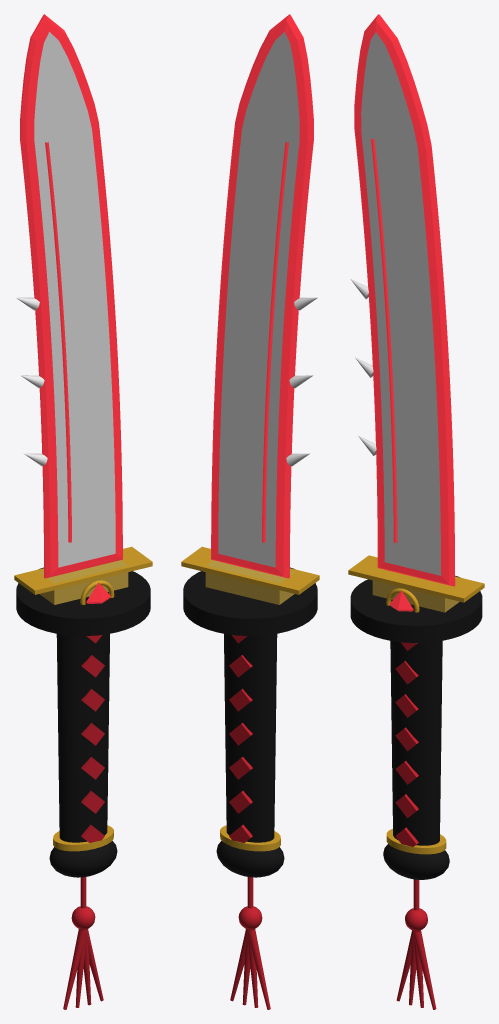
The model's file is 25_Epic_Blood_Moon_Tanto.glb.
The picture shows the model from 3 angles, left to right: view 1: azimuth 30°, elevation 25°; view 2: azimuth 150°, elevation 25°; view 3: azimuth 330°, elevation 25°; orthographic projection.
Visible parts, largest first — view 1: blade_3, handle_14, tsuba_0, blade_inlay_38, guard_trim_39, pommel_30, habaki_1, grip_ring_45, tassel_strand_33, tassel_knot_32, tassel_strand_36, tassel_strand_34 (+1 smaller); view 2: blade_3, handle_14, tsuba_0, habaki_1, blade_inlay_37, guard_trim_39, pommel_30, grip_ring_45, tassel_strand_33, tassel_knot_32, tassel_strand_36, tassel_strand_34 (+1 smaller); view 3: blade_3, handle_14, tsuba_0, guard_trim_39, blade_inlay_38, pommel_30, habaki_1, grip_ring_45, tassel_strand_36, tassel_knot_32, tassel_strand_33, tassel_strand_35.
Part boxes in pixels (bbox=[...]): blade_3: bbox=[20, 14, 122, 578]; handle_14: bbox=[56, 634, 109, 842]; tsuba_0: bbox=[16, 567, 150, 635]; blade_inlay_38: bbox=[45, 142, 71, 542]; guard_trim_39: bbox=[14, 546, 152, 594]; pommel_30: bbox=[49, 840, 117, 877]; habaki_1: bbox=[39, 560, 128, 604]; grip_ring_45: bbox=[53, 825, 113, 851]; tassel_strand_33: bbox=[63, 929, 87, 1009]; tassel_knot_32: bbox=[71, 906, 95, 929]; tassel_strand_36: bbox=[79, 929, 103, 1001]; tassel_strand_34: bbox=[75, 932, 85, 1007]; blade_3: bbox=[211, 14, 313, 578]; handle_14: bbox=[224, 634, 277, 842]; tsuba_0: bbox=[183, 567, 317, 635]; habaki_1: bbox=[205, 560, 294, 604]; blade_inlay_37: bbox=[262, 142, 288, 542]; guard_trim_39: bbox=[181, 546, 319, 594]; pommel_30: bbox=[216, 840, 284, 877]; grip_ring_45: bbox=[220, 825, 280, 851]; tassel_strand_33: bbox=[246, 929, 270, 1009]; tassel_knot_32: bbox=[238, 906, 262, 929]; tassel_strand_36: bbox=[230, 929, 254, 1001]; tassel_strand_34: bbox=[248, 932, 258, 1007]; blade_3: bbox=[354, 14, 455, 586]; handle_14: bbox=[390, 641, 442, 845]; tsuba_0: bbox=[350, 575, 482, 642]; guard_trim_39: bbox=[348, 555, 484, 602]; blade_inlay_38: bbox=[371, 139, 397, 542]; pommel_30: bbox=[383, 844, 449, 879]; habaki_1: bbox=[372, 580, 459, 612]; grip_ring_45: bbox=[386, 829, 446, 854]; tassel_strand_36: bbox=[412, 930, 436, 1009]; tassel_knot_32: bbox=[405, 908, 427, 930]; tassel_strand_33: bbox=[396, 930, 420, 1001]; tassel_strand_35: bbox=[414, 933, 423, 1007].
Size of the model in its own units: 0.1224 by 0.9235 by 0.1125.
Materials: 10 (10 with a texture image).
